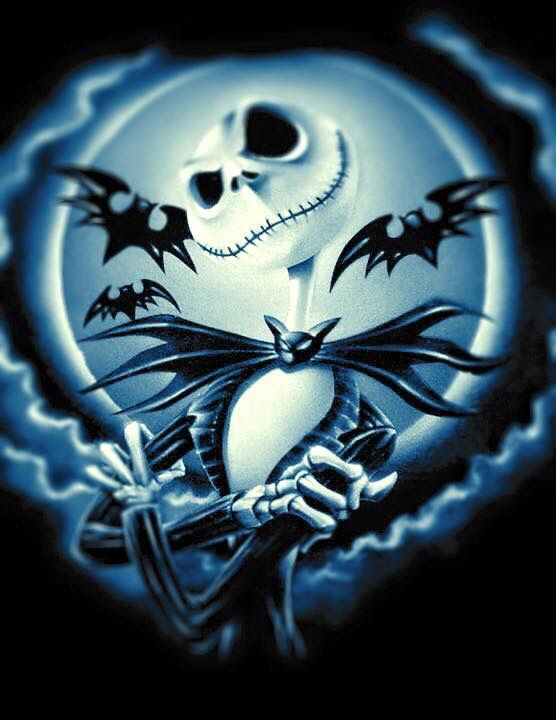Jack Skellington: (75, 89, 402, 667)
